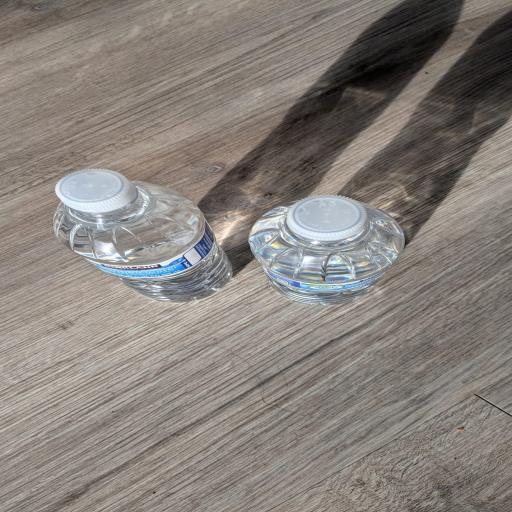waterbottle: (54, 169, 231, 301), (250, 196, 404, 304)
